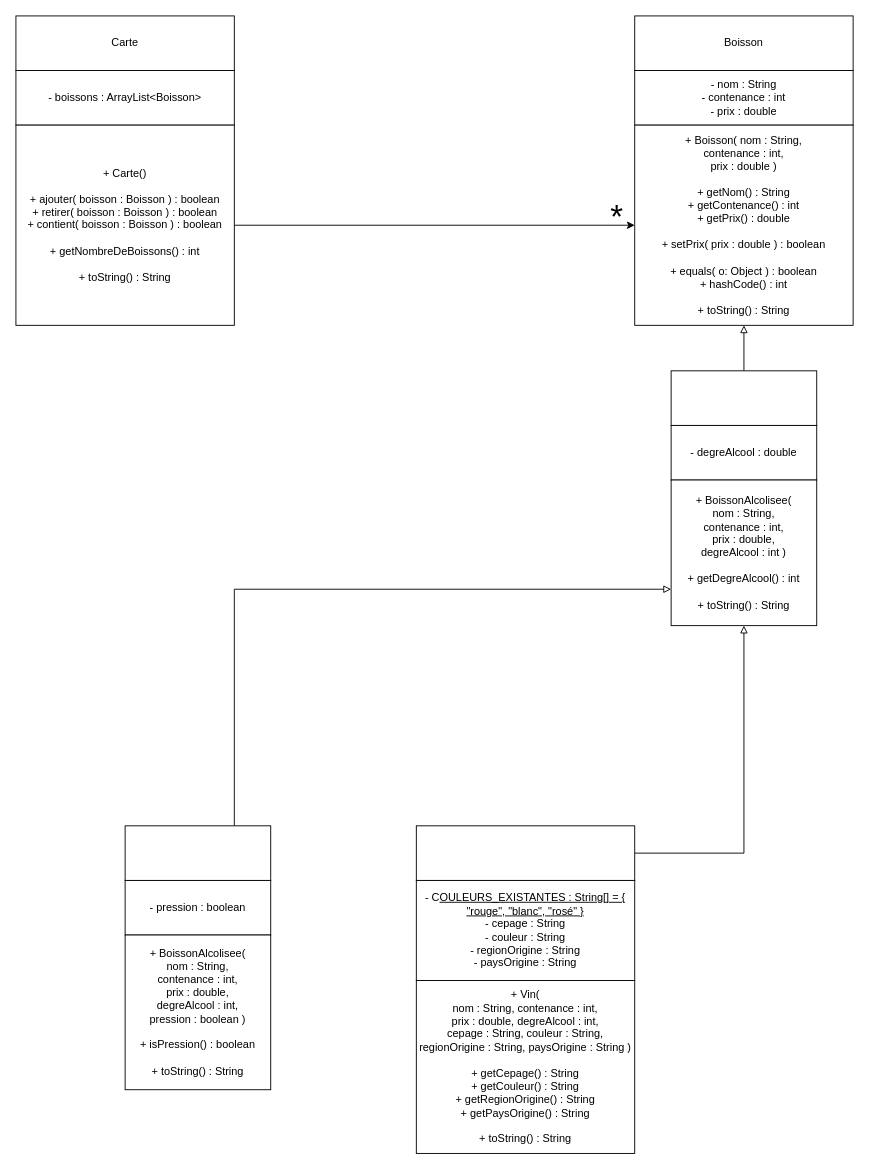
The diagram is 869 pixels wide and 1169 high, and some of its shapes have lost their labels. Here are the shapes that lost their labels. From the top down, the centre of each, then its label:
At pixel 743 397: "BoissonAlcolisee".
At pixel 197 852: "Biere".
At pixel 525 852: "Vin".
